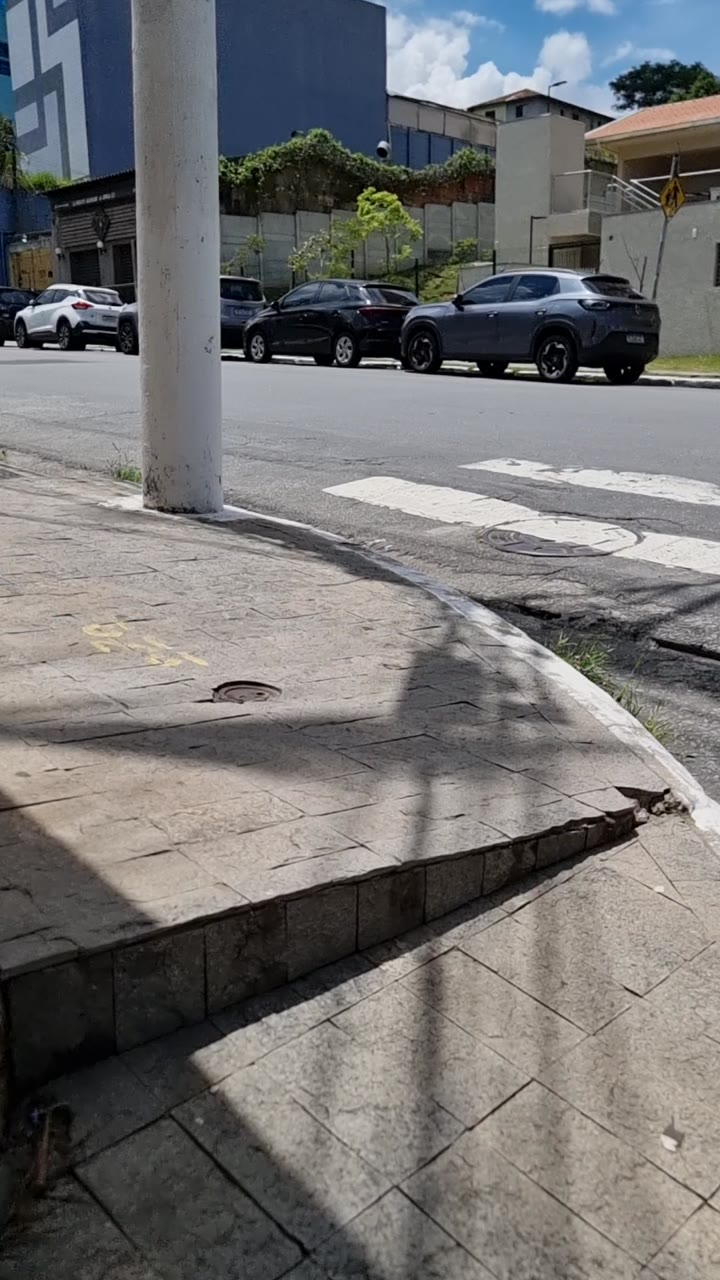desnivel: (0, 742, 720, 1024)
obstaculo: (144, 0, 216, 474)
